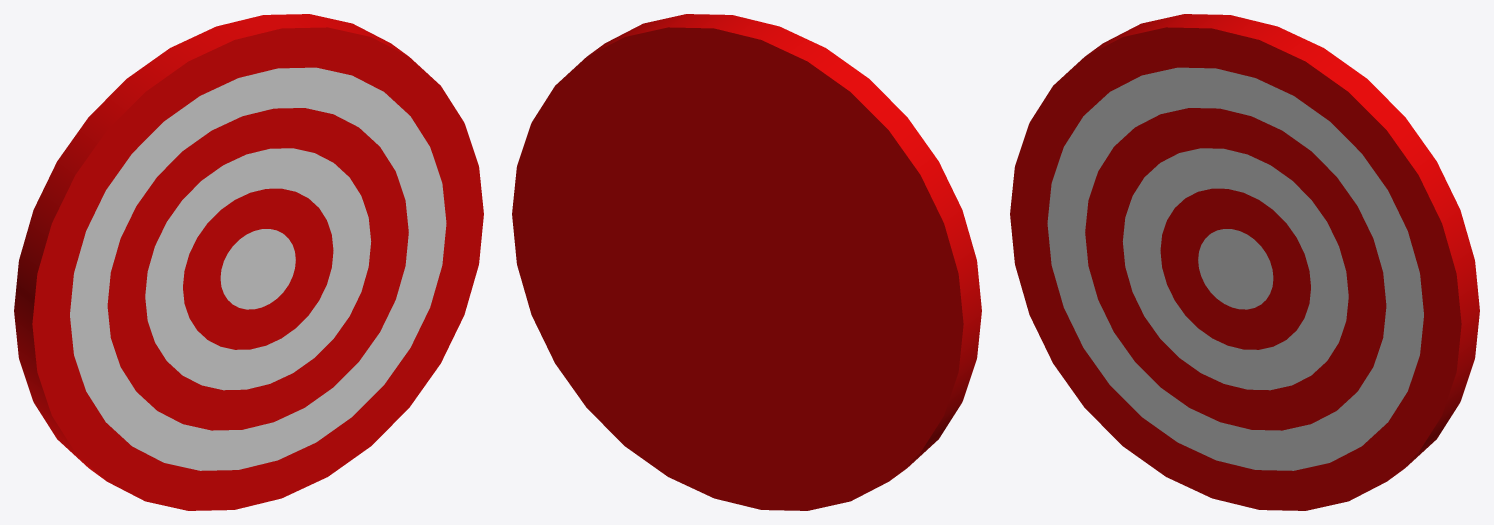
File: Target.fbx
3 renders of one model, left to right at view 1: azimuth 30°, elevation 25°; view 2: azimuth 150°, elevation 25°; view 3: azimuth 330°, elevation 25°, orthographic.
Visible parts, largest first — view 1: pCylinder1; view 2: pCylinder1; view 3: pCylinder1.
Boxes of the visible parts, box(x1,y1,x2,y2) form: pCylinder1: box(14, 14, 483, 510); pCylinder1: box(512, 14, 981, 510); pCylinder1: box(1010, 14, 1479, 510).
Size of the model in its own units: 2.4 by 2.38 by 0.1691.
